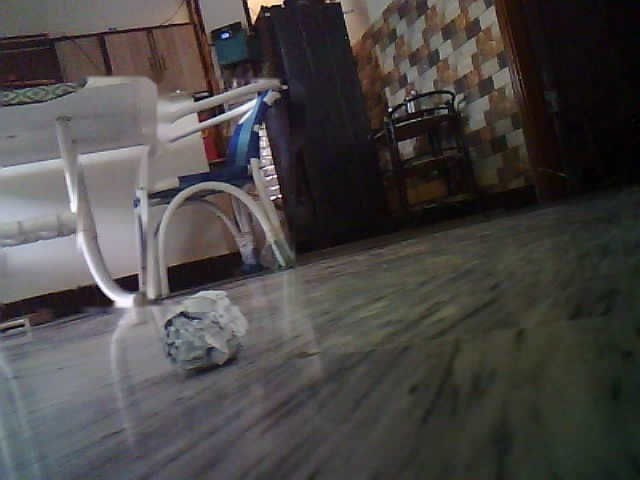paper: (162, 293, 250, 373)
